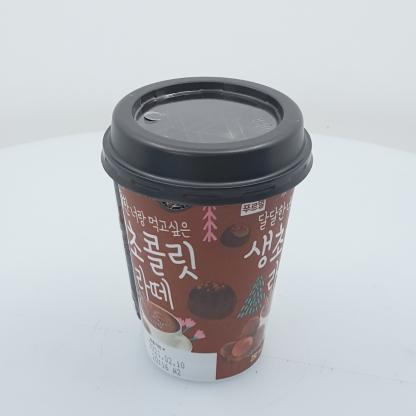----------250ML: (100, 76, 314, 382)
